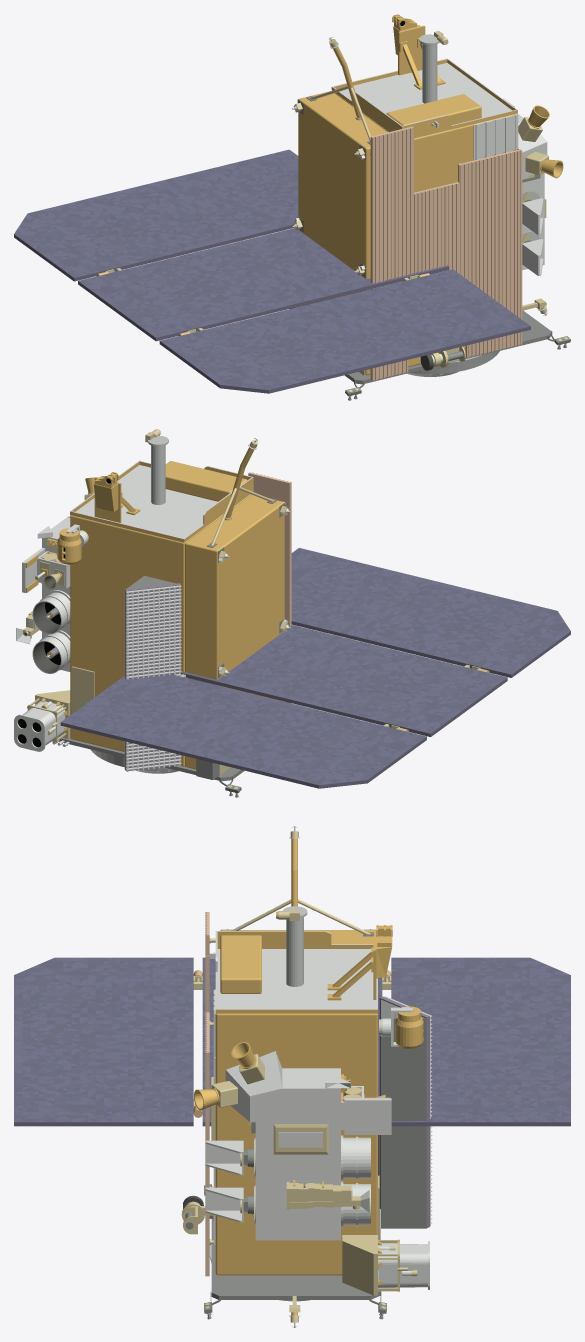
Rendered from lunar_orbiter_lro.glb.
The picture shows the model from 3 angles, top to bottom: view 1: azimuth 30°, elevation 25°; view 2: azimuth 150°, elevation 25°; view 3: azimuth 270°, elevation 25°; orthographic projection. The views are drawn at different scales.
Visible parts, largest first — view 1: Layer_0; view 2: Layer_0; view 3: Layer_0.
Part boxes in pixels (x1,y1,x2,y2): Layer_0: (14, 14, 570, 400); Layer_0: (14, 429, 570, 797); Layer_0: (14, 826, 570, 1327).
Bounding box in the file's own units: 33.28 × 26.29 × 32.26.
4 materials, 4 textured.
